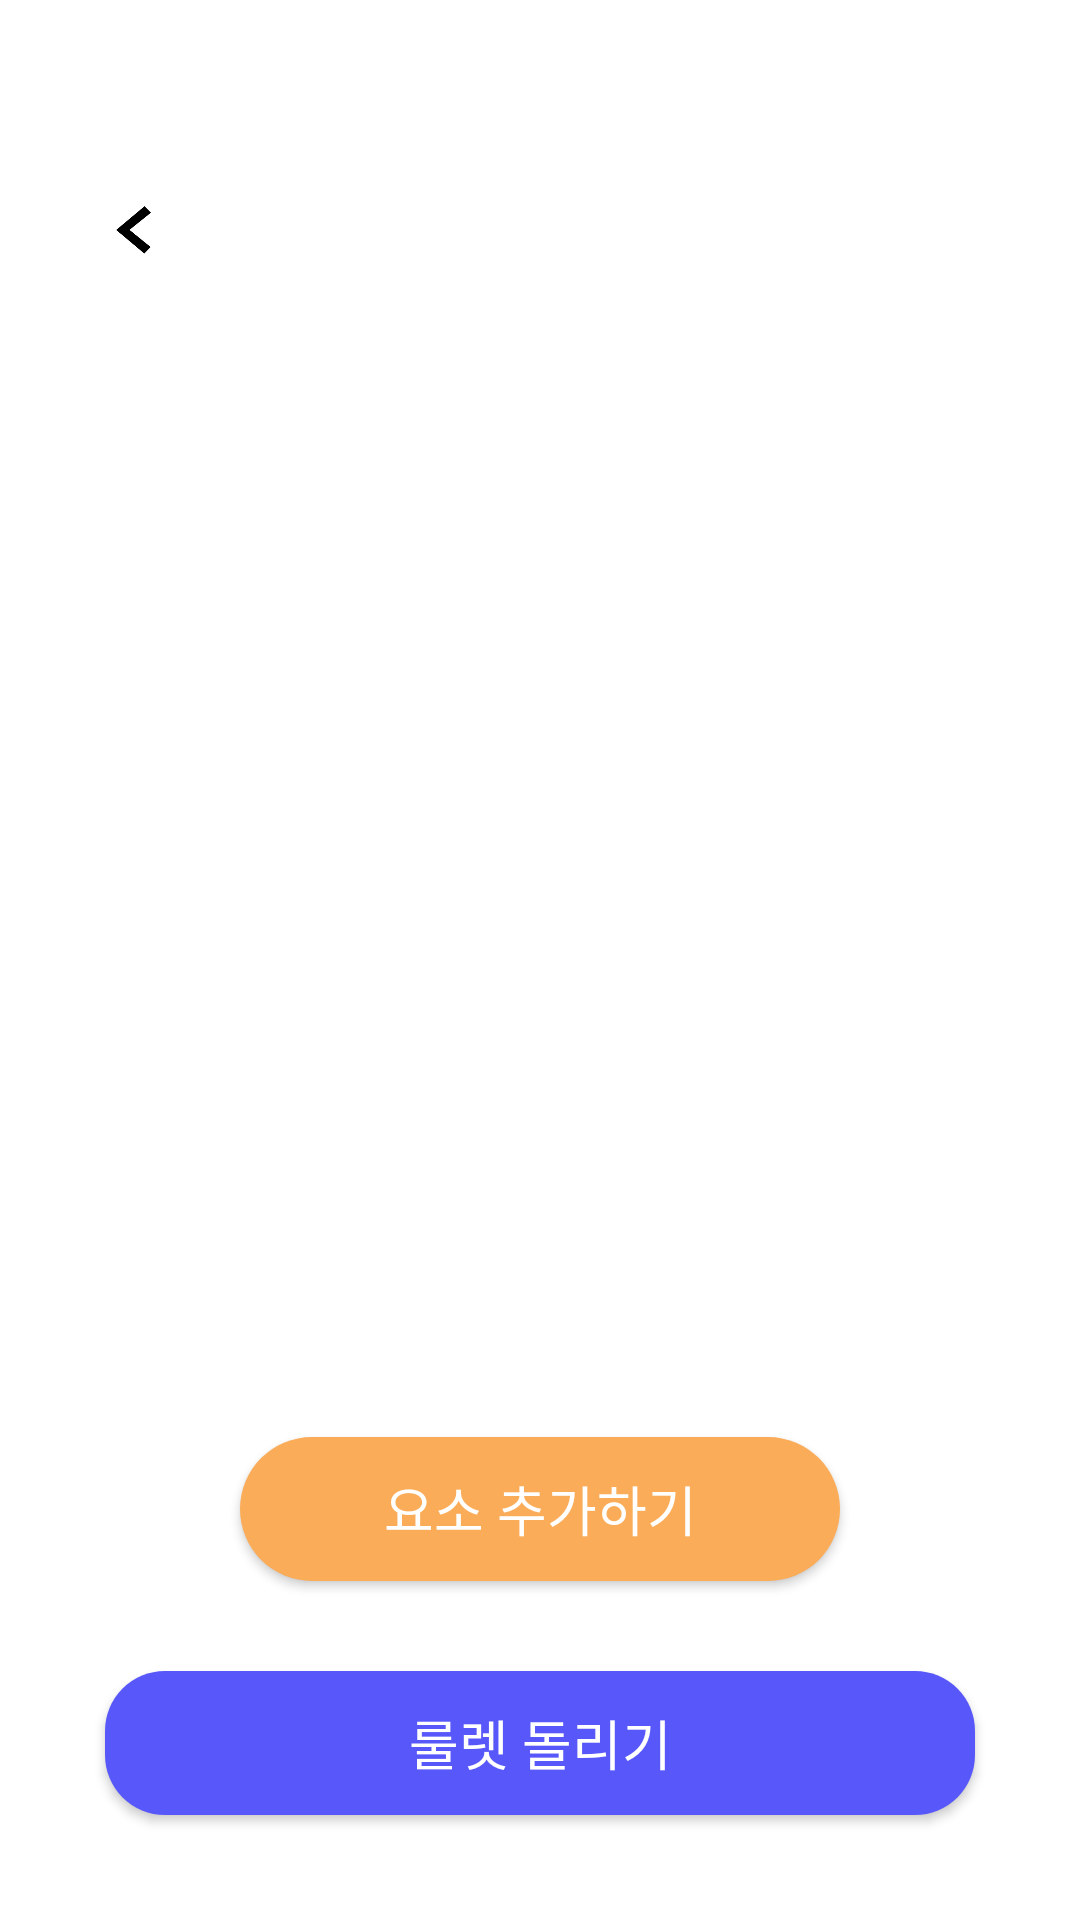

Icon bounding boxes for this 1080w x 1920h phone screenshot, format (x1, y1, x2, y2):
backbut: (116, 206, 151, 254)
